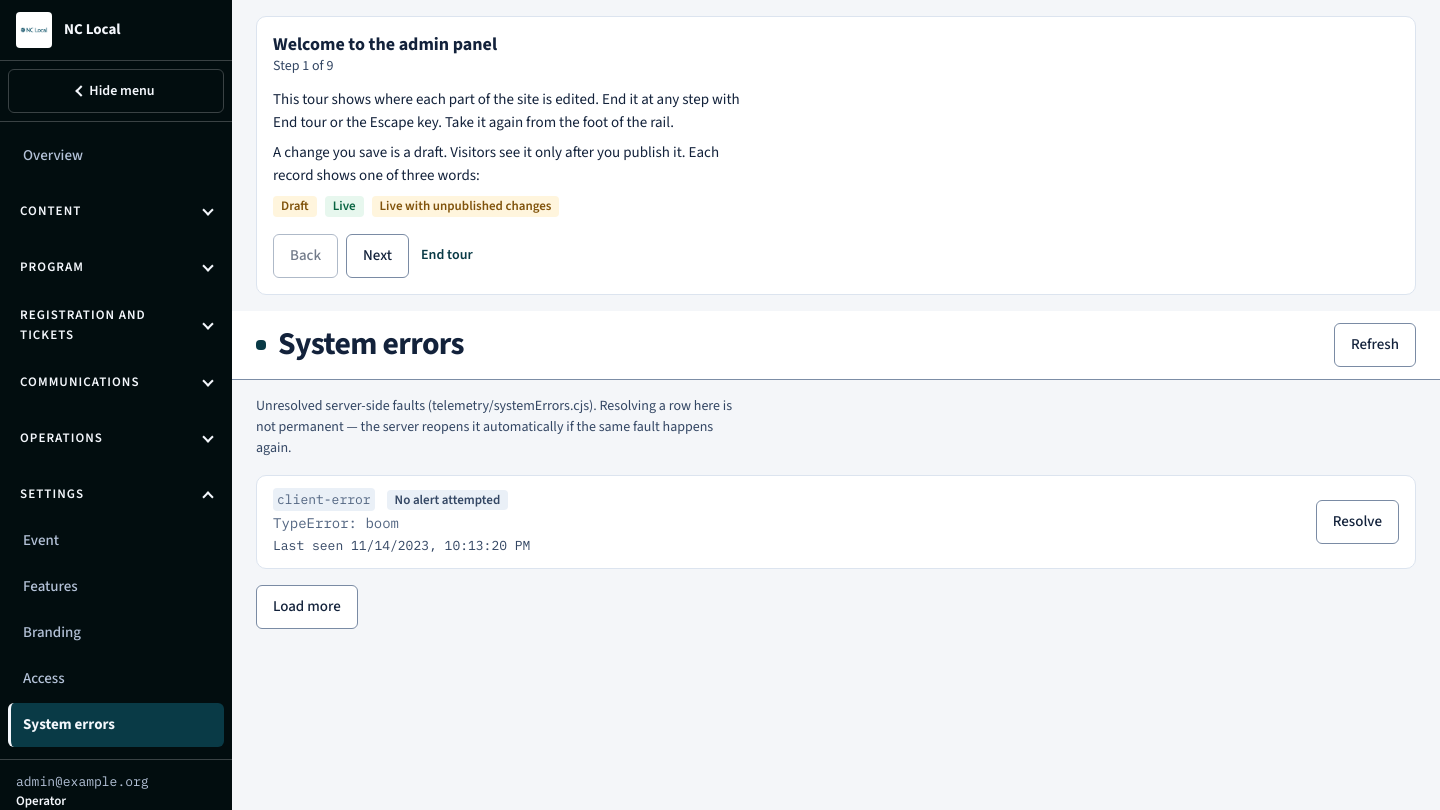
load more › fetches the next page with the server cursor and appends it
Expected: the text "TypeError: boom" is shown, [273,514,399,532]
What coordinates should you click on to do the following:
click the button "Load more"
I would click on:
 (307, 607)
Its box is [256,585,358,629].
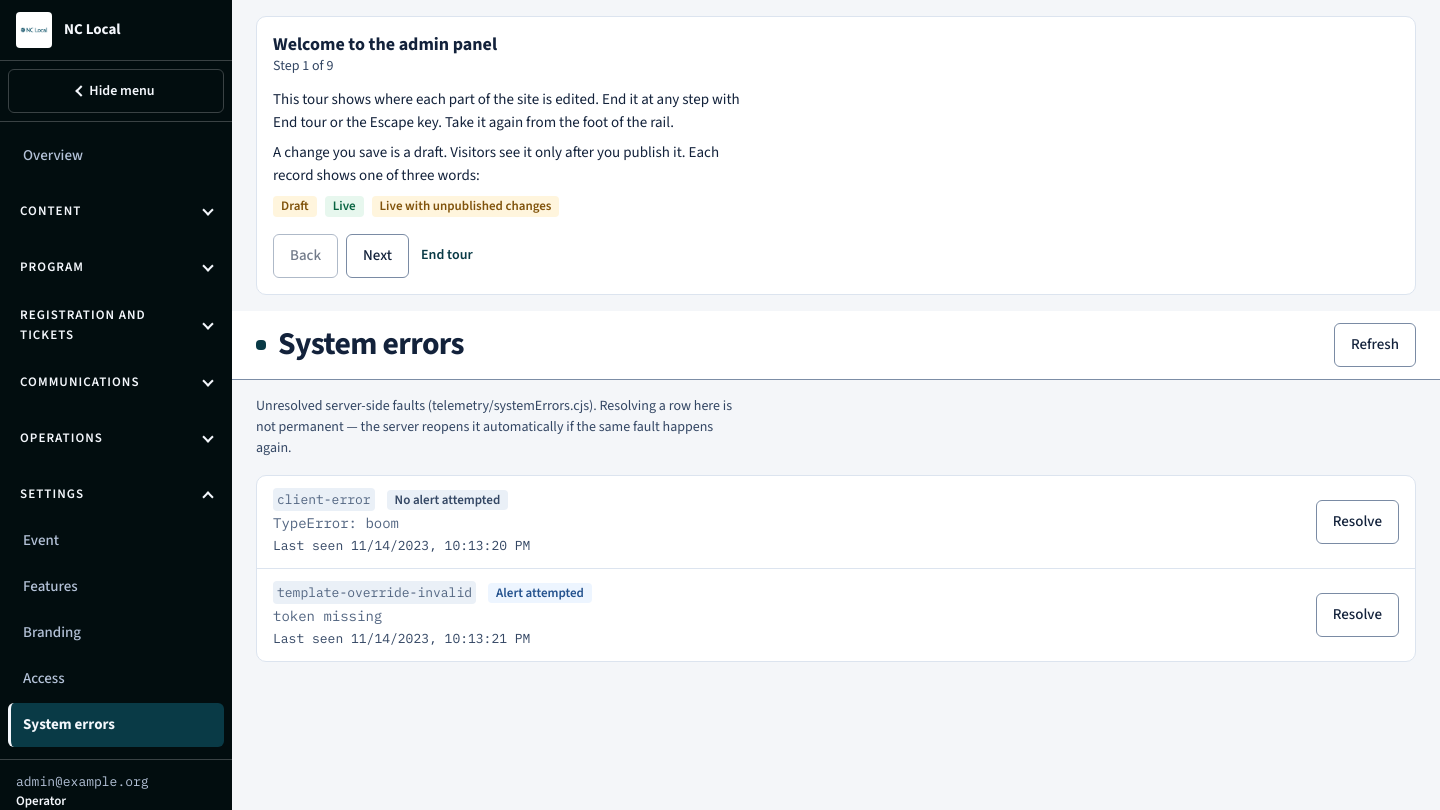
Expected: the text "TypeError: boom" is shown, [273,514,399,532]
Now the text "token missing" is shown, box [273,607,382,625]
Now the button "Load more" is gone
